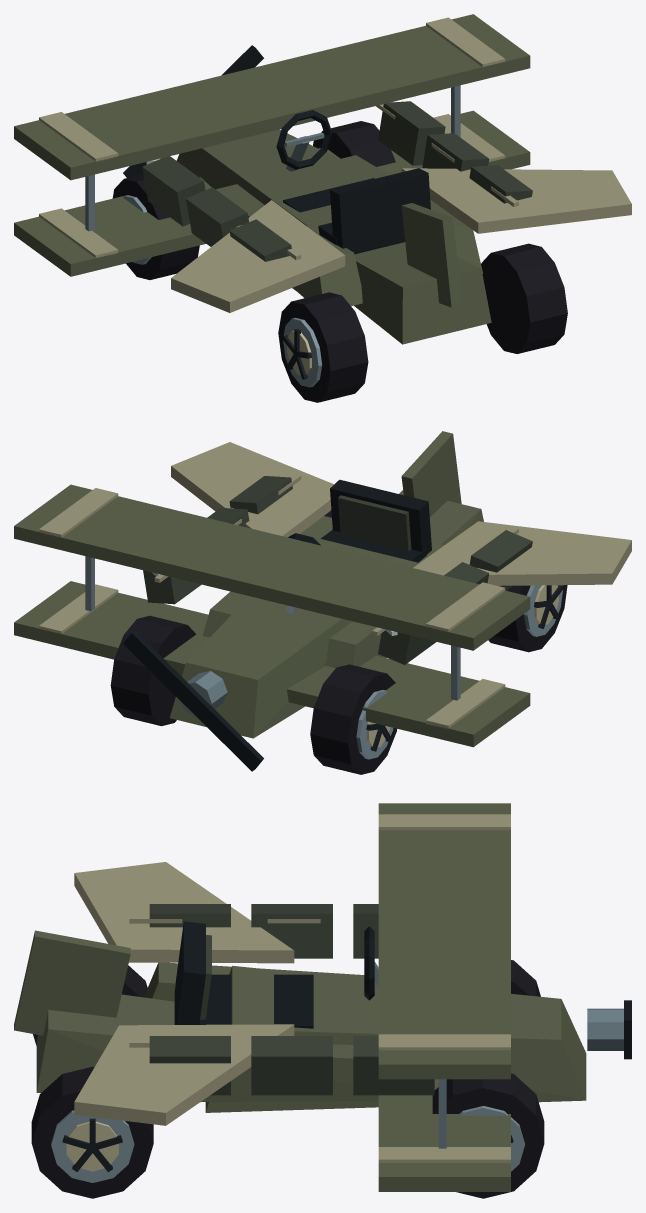
Rendered from kart.glb.
3 views of the same model, one above another, from view 1: azimuth 30°, elevation 25°; view 2: azimuth 150°, elevation 25°; view 3: azimuth 270°, elevation 25° (orthographic). The views are drawn at different scales.
Parts seen in each view (by area): view 1: identity-biplane-biplane-dual-wings-and-propeller, identity-biplane-motif-wings, identity-biplane-motif-armor, identity-biplane-driver-cockpit, wheel-rear-left, wheel-rear-right, wheel-front-left, wheel-front-right, identity-biplane-motif-runes; view 2: identity-biplane-biplane-dual-wings-and-propeller, identity-biplane-motif-wings, wheel-front-left, identity-biplane-driver-cockpit, identity-biplane-motif-armor, wheel-front-right, wheel-rear-left; view 3: identity-biplane-biplane-dual-wings-and-propeller, identity-biplane-motif-wings, identity-biplane-motif-armor, wheel-rear-right, identity-biplane-driver-cockpit, wheel-front-right, identity-biplane-motif-runes, wheel-front-left, wheel-rear-left.
Part boxes in pixels (x1,y1,x2,y2): identity-biplane-biplane-dual-wings-and-propeller: (14,14,530,344); identity-biplane-motif-wings: (171,168,631,312); identity-biplane-motif-armor: (142,101,532,261); identity-biplane-driver-cockpit: (276,110,430,254); wheel-rear-left: (278,292,368,402); wheel-rear-right: (481,243,567,353); wheel-front-left: (112,174,199,279); wheel-front-right: (313,121,395,166); identity-biplane-motif-runes: (146,101,518,259); identity-biplane-biplane-dual-wings-and-propeller: (14,431,530,771); identity-biplane-motif-wings: (171,442,631,585); wheel-front-left: (310,664,396,774); identity-biplane-driver-cockpit: (286,479,431,613); identity-biplane-motif-armor: (143,476,532,664); wheel-front-right: (110,615,196,726); wheel-rear-left: (488,585,567,652); identity-biplane-biplane-dual-wings-and-propeller: (14,803,631,1191); identity-biplane-motif-wings: (74,862,294,1125); identity-biplane-motif-armor: (149,904,434,1095); wheel-rear-right: (31,1066,153,1198); identity-biplane-driver-cockpit: (174,921,378,1028); wheel-front-right: (432,1073,544,1198); identity-biplane-motif-runes: (129,916,320,1047); wheel-front-left: (511,960,540,996); wheel-rear-left: (33,965,147,1045).
Bounding box in the file's own units: 3.04 × 1.09 × 3.04.
